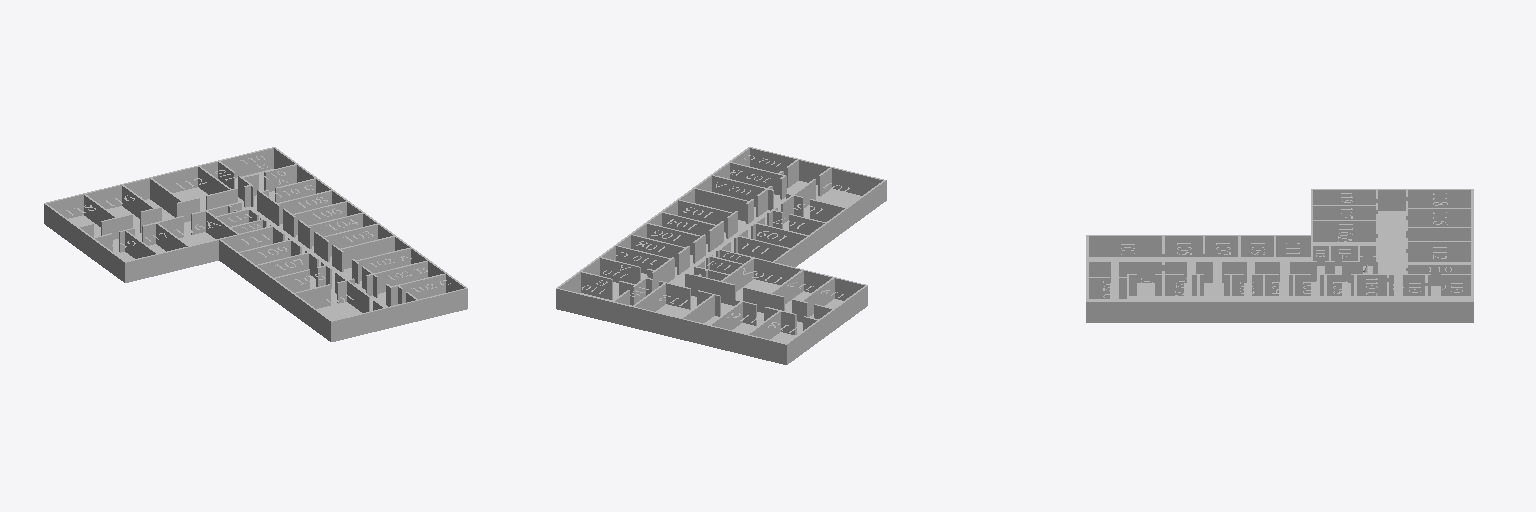
Rendered from bing1.obj.
3 renders of one model, left to right at view 1: azimuth 30°, elevation 25°; view 2: azimuth 150°, elevation 25°; view 3: azimuth 270°, elevation 25°, orthographic.
Parts seen in each view (by area): view 1: pCube59, polySurface19, pCube62, pCube85, pCube61, pCube57, pCube60, pCube131, pCube132, pCube130, pCube128, pCube129 (+13 smaller); view 2: pCube59, polySurface19, pCube85, pCube62, pCube57, pCube60, pCube61, pCube131, pCube128, pCube111, pCube132, pCube149 (+15 smaller); view 3: pCube57, polySurface19, pCube85, pCube60, pCube101, pCube118, pCube88, pCube142, pCube110, pCube102, pCube89, pCube77 (+3 smaller).
Boxes of the visible parts, x1=… form: pCube59: x1=44, y1=147, x2=273, y2=223; polySurface19: x1=69, y1=169, x2=387, y2=324; pCube62: x1=330, y1=288, x2=465, y2=341; pCube85: x1=219, y1=240, x2=331, y2=340; pCube61: x1=125, y1=239, x2=220, y2=282; pCube57: x1=273, y1=147, x2=467, y2=309; pCube60: x1=45, y1=203, x2=125, y2=282; pCube131: x1=366, y1=260, x2=427, y2=295; pCube132: x1=390, y1=274, x2=445, y2=305; pCube130: x1=341, y1=236, x2=394, y2=268; pCube128: x1=355, y1=248, x2=410, y2=280; pCube129: x1=321, y1=224, x2=377, y2=257; pCube59: x1=558, y1=288, x2=787, y2=364; polySurface19: x1=581, y1=181, x2=870, y2=342; pCube85: x1=773, y1=181, x2=884, y2=266; pCube62: x1=750, y1=147, x2=886, y2=201; pCube57: x1=556, y1=147, x2=750, y2=309; pCube60: x1=785, y1=285, x2=867, y2=364; pCube61: x1=771, y1=262, x2=865, y2=300; pCube131: x1=712, y1=175, x2=773, y2=210; pCube128: x1=695, y1=188, x2=750, y2=222; pCube111: x1=685, y1=273, x2=735, y2=305; pCube132: x1=730, y1=162, x2=786, y2=194; pCube149: x1=738, y1=236, x2=792, y2=266; pCube57: x1=1086, y1=301, x2=1473, y2=322; polySurface19: x1=1089, y1=211, x2=1470, y2=300; pCube85: x1=1089, y1=235, x2=1310, y2=256; pCube60: x1=1311, y1=189, x2=1473, y2=210; pCube101: x1=1311, y1=220, x2=1377, y2=241; pCube118: x1=1406, y1=241, x2=1473, y2=261; pCube88: x1=1406, y1=208, x2=1473, y2=226; pCube142: x1=1119, y1=261, x2=1186, y2=282; pCube110: x1=1313, y1=245, x2=1375, y2=265; pCube102: x1=1313, y1=205, x2=1376, y2=219; pCube89: x1=1408, y1=227, x2=1470, y2=240; pCube77: x1=1351, y1=274, x2=1393, y2=295.
Size of the model in its own units: 2351 by 202 by 3412.